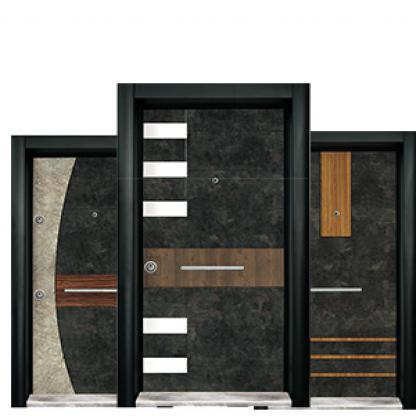door: (139, 104, 284, 390), (309, 148, 395, 394), (31, 154, 116, 392)
